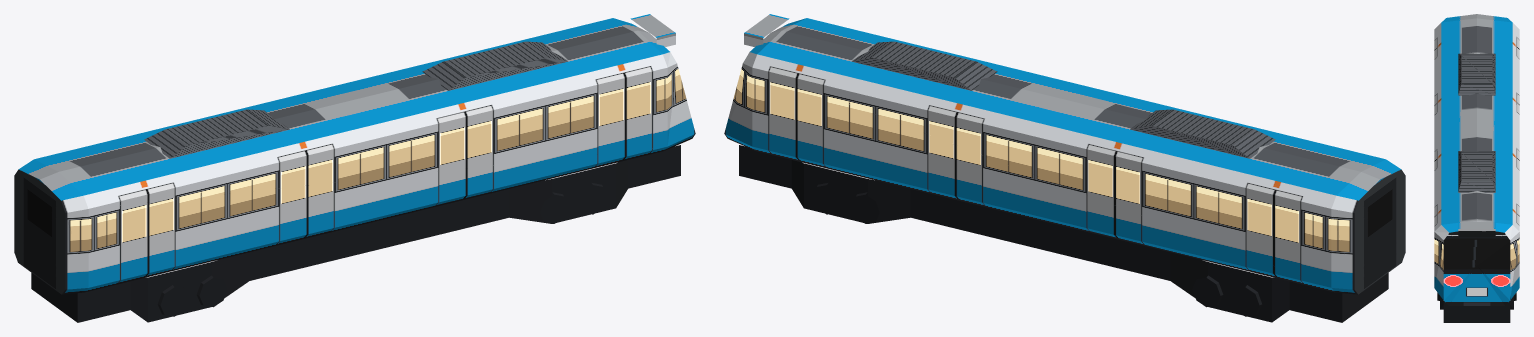
Rendered from paris_idfm_pneu__neutral__tail.glb.
3 renders of one model, left to right at view 1: azimuth 30°, elevation 25°; view 2: azimuth 150°, elevation 25°; view 3: azimuth 270°, elevation 25°, orthographic. The views are drawn at different scales.
Parts seen in each view (by area): view 1: paris_idfm_pneu__neutral__tail; view 2: paris_idfm_pneu__neutral__tail; view 3: paris_idfm_pneu__neutral__tail.
Part boxes in pixels (x1,y1,x2,y2): paris_idfm_pneu__neutral__tail: [14, 14, 695, 322]; paris_idfm_pneu__neutral__tail: [724, 14, 1405, 322]; paris_idfm_pneu__neutral__tail: [1434, 14, 1519, 322].
Bounding box in the file's own units: 15 × 3.47 × 2.44.
1 material, 1 textured.
